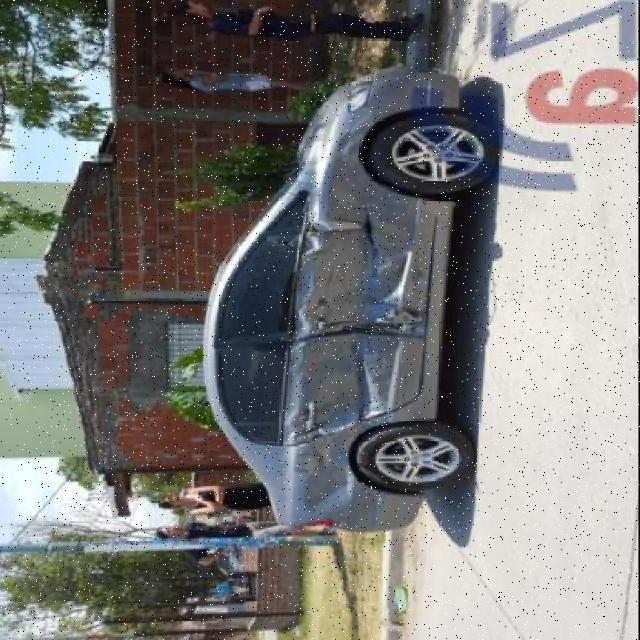damage: (286, 134, 436, 516)
